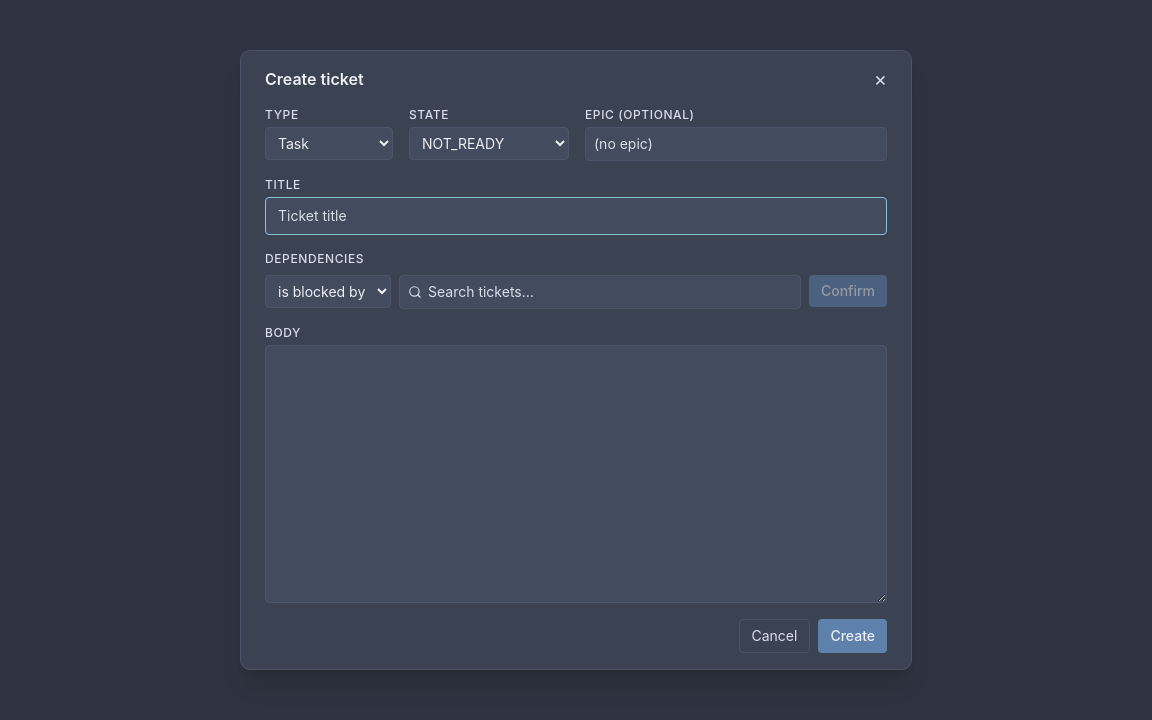
Test: CreateTicketModal › should display an inline error banner when the mutation fails
In the field labelled "Title": (576, 216) [265,197,887,235], type "some title"
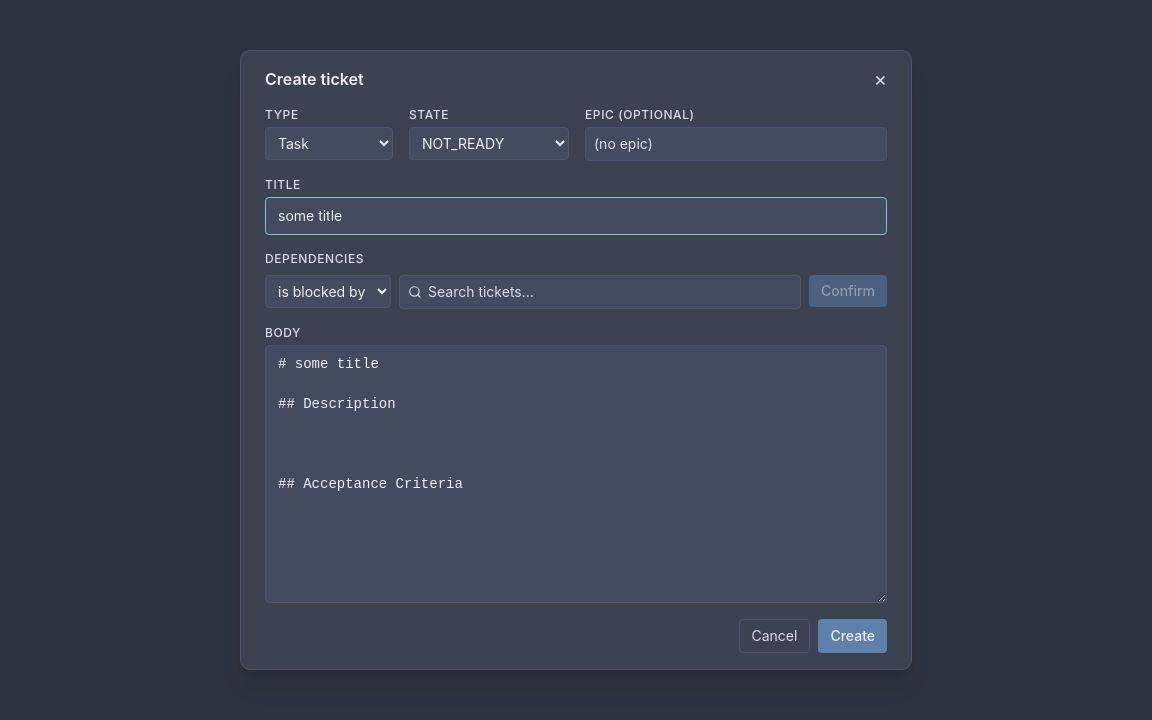
Click the button "Create": (853, 636) [818,619,887,653]
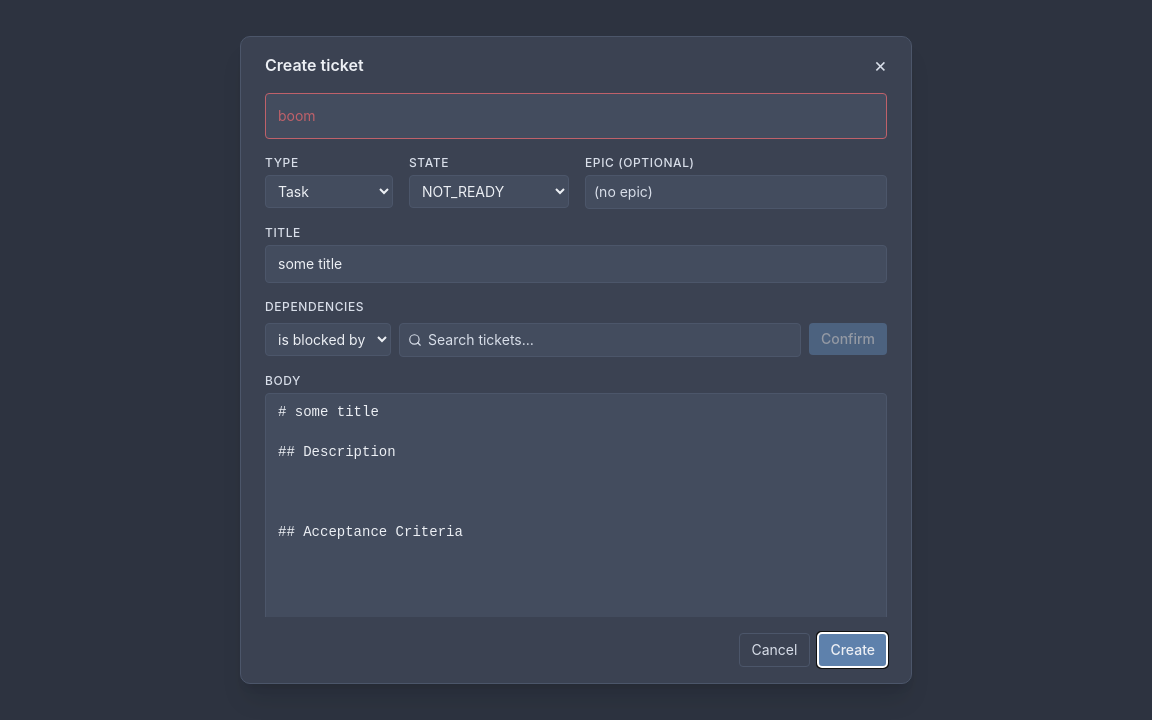
Expected: the text "boom" is shown, [265,93,887,139]
